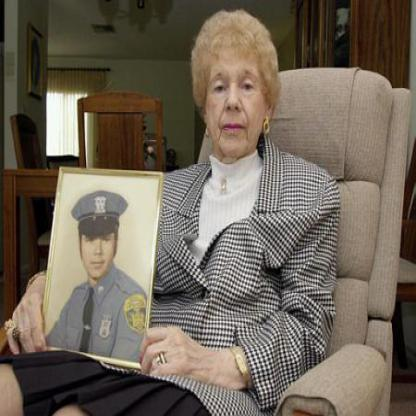face: (205, 22, 269, 160), (81, 201, 116, 280)
